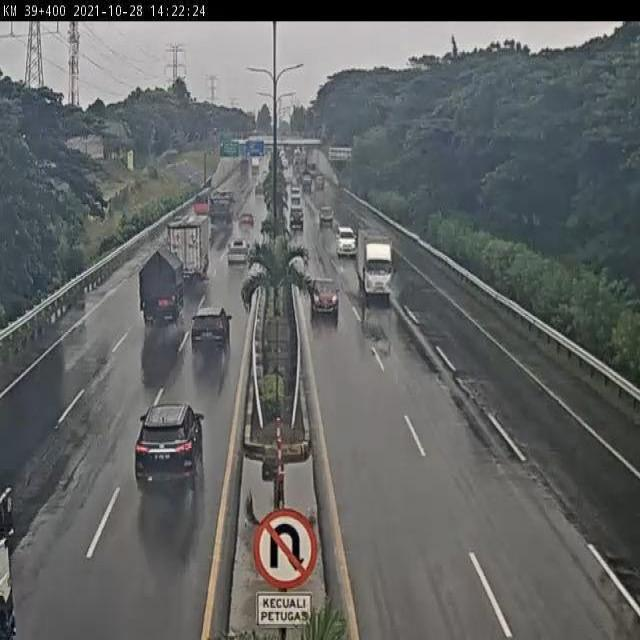car: (133, 401, 206, 487), (189, 306, 231, 358), (309, 271, 338, 312), (225, 239, 249, 272), (237, 208, 255, 231)
truck: (136, 251, 187, 323), (164, 221, 208, 287), (353, 231, 394, 297), (208, 189, 237, 228), (194, 190, 212, 222)
